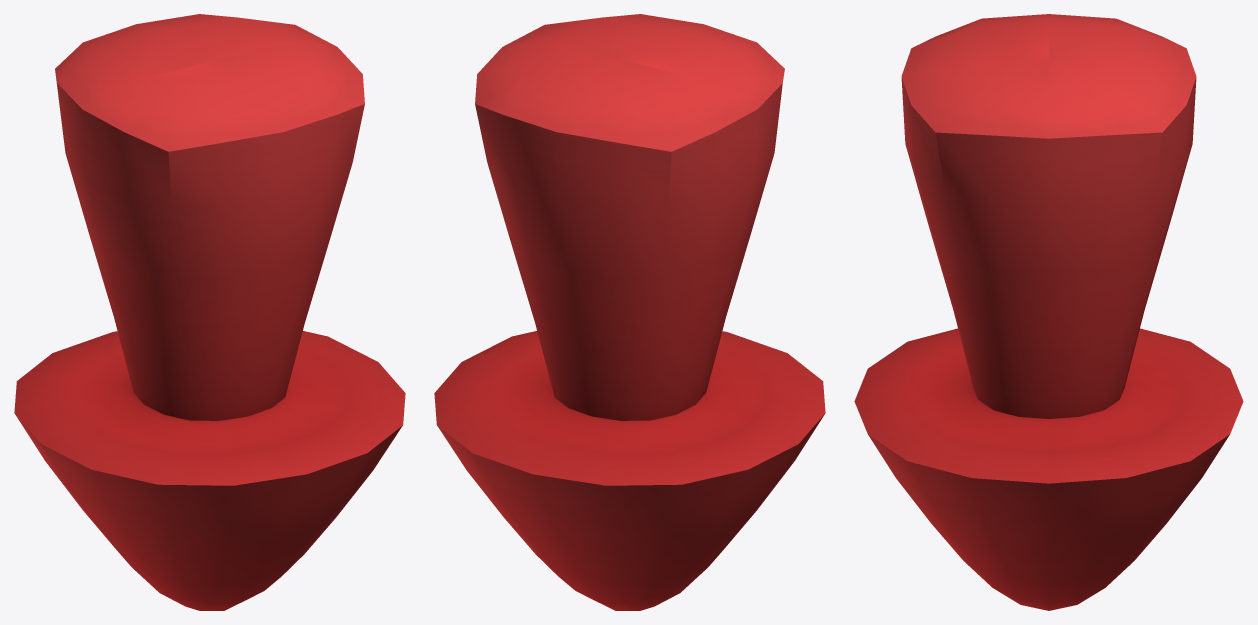
File: Arrow.fbx
3 views of the same model, side by side, from view 1: azimuth 30°, elevation 25°; view 2: azimuth 150°, elevation 25°; view 3: azimuth 270°, elevation 25° (orthographic).
Visible parts, largest first — view 1: Cube; view 2: Cube; view 3: Cube.
Boxes of the visible parts, x1,y1,x2,y2 form: Cube: (14,14,405,610); Cube: (434,14,825,610); Cube: (854,14,1243,610).
Size of the model in its own units: 211 by 327 by 211.
1 material, 1 textured.
